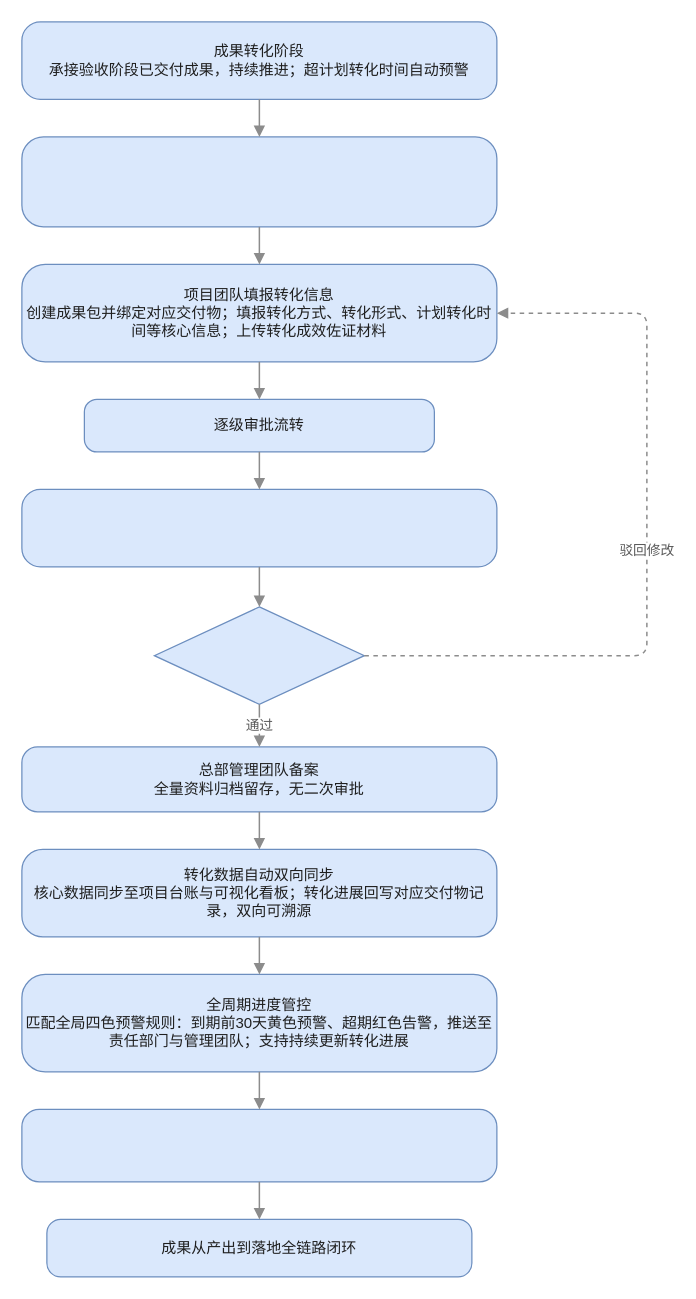
Some shapes in this 696 by 1299 pixel diagram are drawn without their labels. Here are the shapes that lost their labels. From the top down, the centre of each, then its label:
the point at 259,181: 系统前置校验 仅「已交付」状态交付物可纳入成果包；系统自动生成全局唯一成果编号，自动关联所属项目信息
the point at 259,527: 二级单位管理团队审核确认 核查信息合规性与完整性，可驳回修改，审核记录全程留痕
the point at 258,655: 审核结果
the point at 259,1145: 转化成效纳入后评价核心维度 作为后续立项、资源调配、成果管理的决策依据
